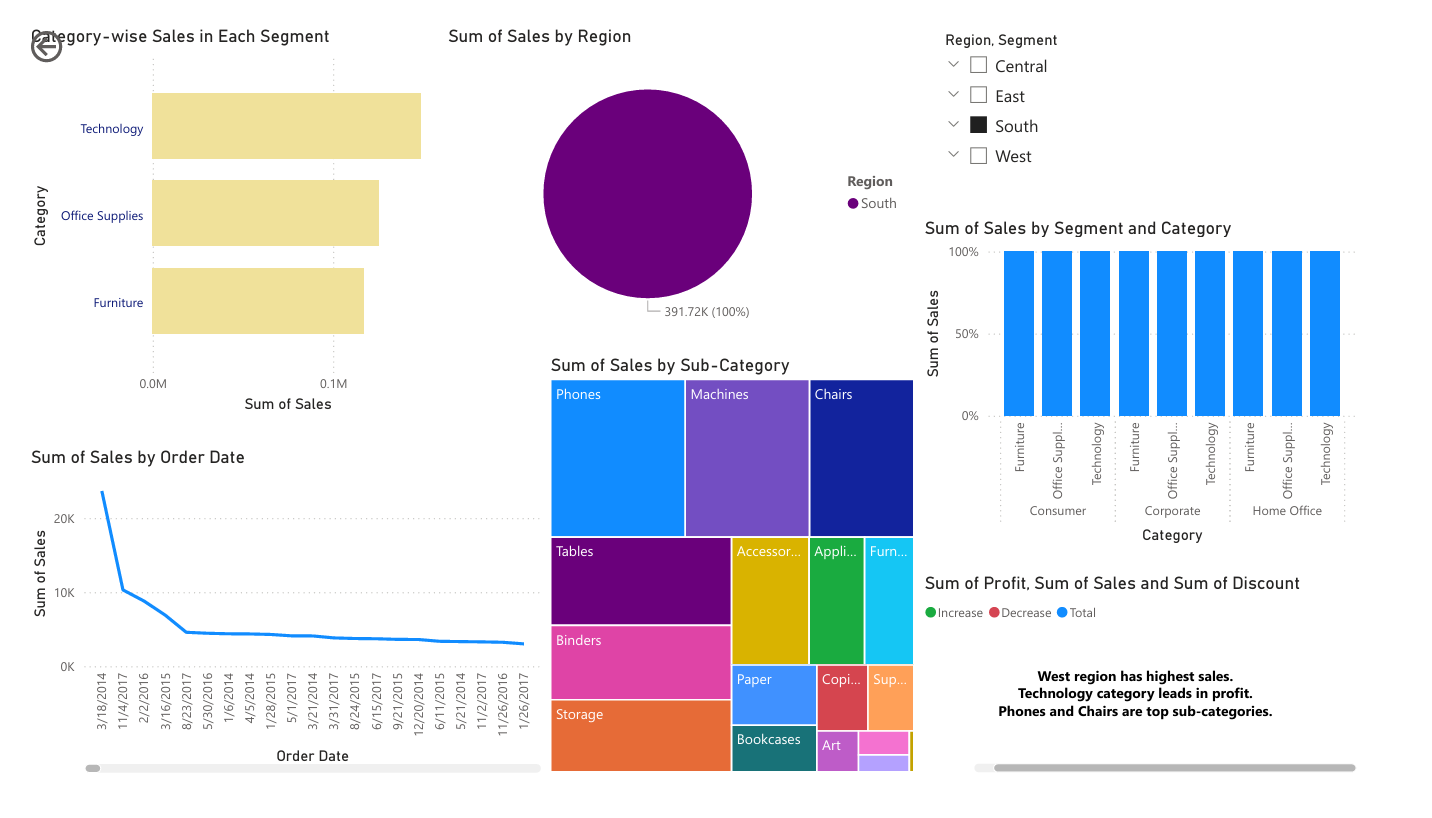

The page's visual inventory and layout, read from the dashboard file:
{"tool":"powerbi","page":{"name":"Page 1","canvas":[1280,720],"ordinal":0},"visuals":[{"type":"barChart","title":"Category-wise Sales in Each Segment","fields":{"Y":["Sum(Sample - Superstore.Sales)"],"Category":["Sample - Superstore.Category"]},"box":[0,0,400.2,375.2],"z":0},{"type":"lineChart","fields":{"Category":["Sample - Superstore.Order Date"],"Y":["Sum(Sample - Superstore.Sales)"]},"box":[0,403.3,498.7,317.3],"z":1000},{"type":"pieChart","fields":{"Category":["Sample - Superstore.Region"],"Y":["Sum(Sample - Superstore.Sales)"]},"box":[400.2,0,456.5,303.3],"z":2000},{"type":"treemap","fields":{"Group":["Sample - Superstore.Sub-Category"],"Values":["Sum(Sample - Superstore.Sales)"]},"box":[498.7,315.8,358,404.9],"z":3000},{"type":"actionButton","box":[0,0,100,40],"z":4000},{"type":"slicer","fields":{"Values":["Sample - Superstore.Region","Sample - Superstore.Segment"]},"box":[867.6,0,395.5,182.9],"z":5000},{"type":"hundredPercentStackedColumnChart","fields":{"Category":["Sample - Superstore.Segment","Sample - Superstore.Category"],"Y":["Sum(Sample - Superstore.Sales)"]},"box":[856.7,182.9,423.6,317.3],"z":6000},{"type":"waterfallChart","fields":{"Y":["Sum(Sample - Superstore.Profit)"]},"box":[856.7,523.7,423.6,197],"z":7000},{"type":"textbox","box":[912,608,304,64],"z":8000}]}

Visuals, with their boxes in screenshot pixels (x1, y1, x2, y2), scaled from the page's 1280x720 canvas onto the 1432x818 screenshot:
"Category-wise Sales in Each Segment" barChart: region(0, 0, 448, 426)
lineChart - Sample - Superstore.Order Date x Sum(Sample - Superstore.Sales): region(0, 458, 558, 817)
pieChart - Sample - Superstore.Region x Sum(Sample - Superstore.Sales): region(448, 0, 958, 345)
treemap - Sample - Superstore.Sub-Category x Sum(Sample - Superstore.Sales): region(558, 359, 958, 817)
actionButton: region(0, 0, 112, 45)
slicer - Sample - Superstore.Region x Sample - Superstore.Segment: region(971, 0, 1413, 208)
hundredPercentStackedColumnChart - Sample - Superstore.Segment x Sample - Superstore.Category: region(958, 208, 1431, 568)
waterfallChart - Sum(Sample - Superstore.Profit): region(958, 595, 1431, 817)
textbox: region(1020, 691, 1360, 763)
